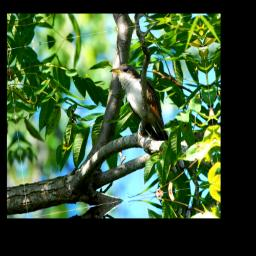Cuckoo: (109, 57, 169, 149)
